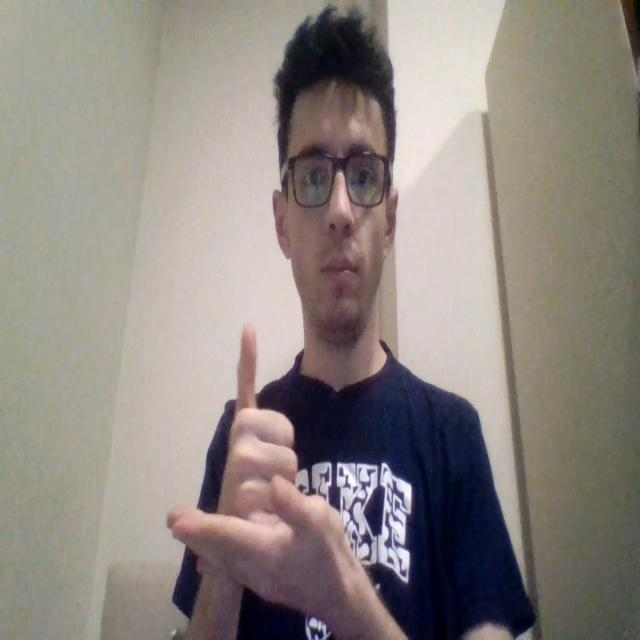help: (170, 328, 370, 613)
